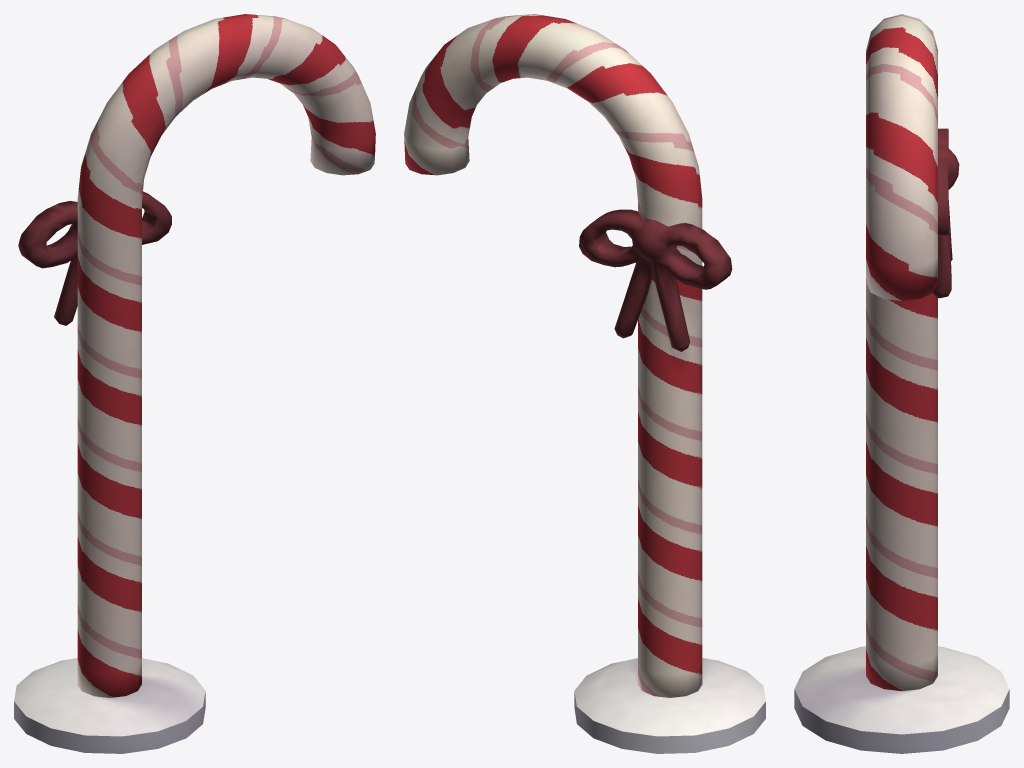
Rendered from candy_cane_giant.glb.
The picture shows the model from 3 angles, left to right: view 1: azimuth 30°, elevation 25°; view 2: azimuth 150°, elevation 25°; view 3: azimuth 270°, elevation 25°; orthographic projection. The views are drawn at different scales.
Visible parts, largest first — view 1: Cane, Base, Bow; view 2: Cane, Base, Bow; view 3: Cane, Base, Bow.
Part boxes in pixels (x1,y1,x2,y2): Cane: (77,14,375,697); Base: (14,658,205,753); Bow: (18,191,171,325); Cane: (404,14,702,697); Base: (574,658,765,753); Bow: (579,209,732,351); Cane: (866,14,937,690); Base: (794,646,1009,753); Bow: (933,128,959,298).
Bounding box in the file's own units: 1.24 × 2.28 × 0.6.
Materials: 1 (1 with a texture image).
